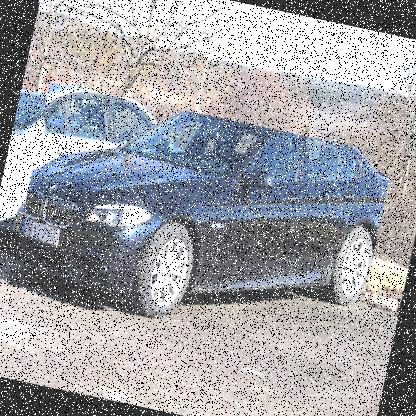Car: (7, 82, 395, 359), (0, 88, 194, 265), (12, 90, 55, 136)
